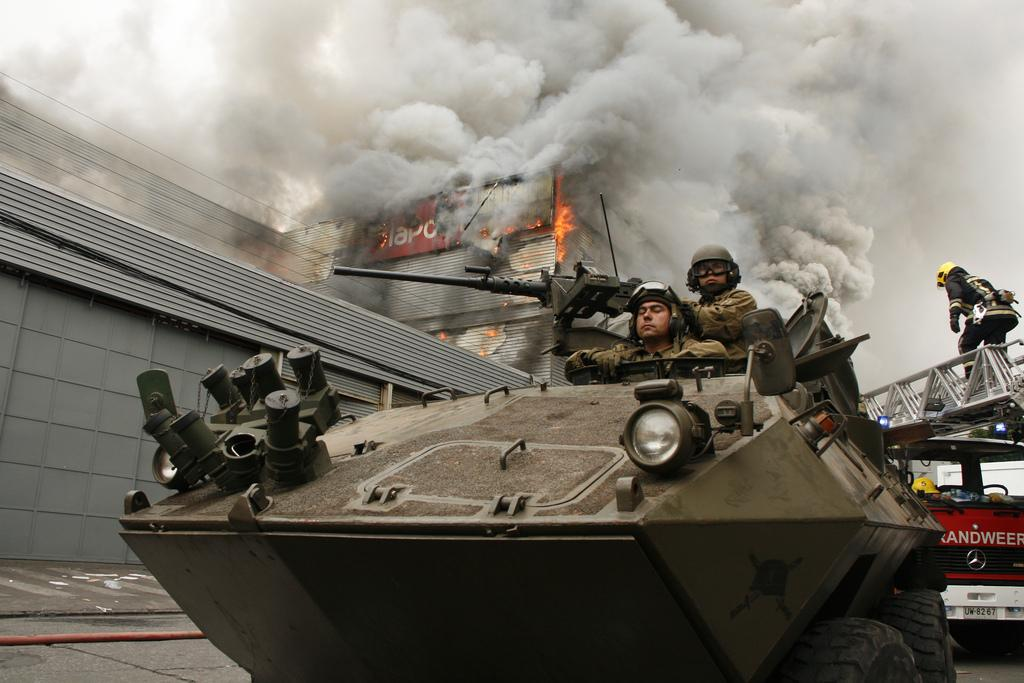fire: (530, 190, 577, 258)
smoke: (605, 32, 957, 223), (238, 10, 527, 138)
